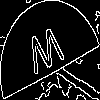W: (25, 25, 68, 84)
